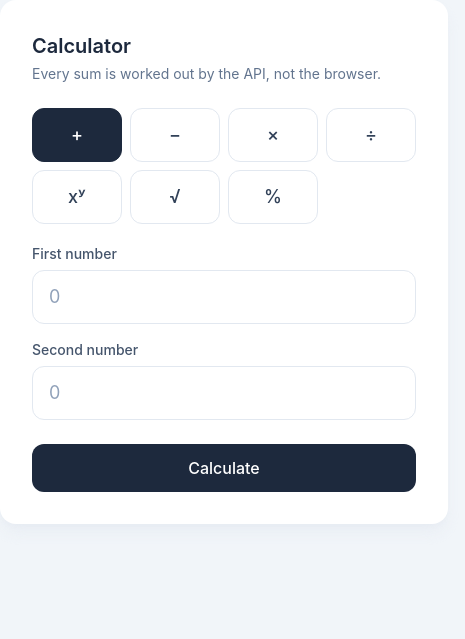
Test: displaying the result › shows the result
Type "2" into the field labelled "First number" at (224, 297), box [32,270,416,324]
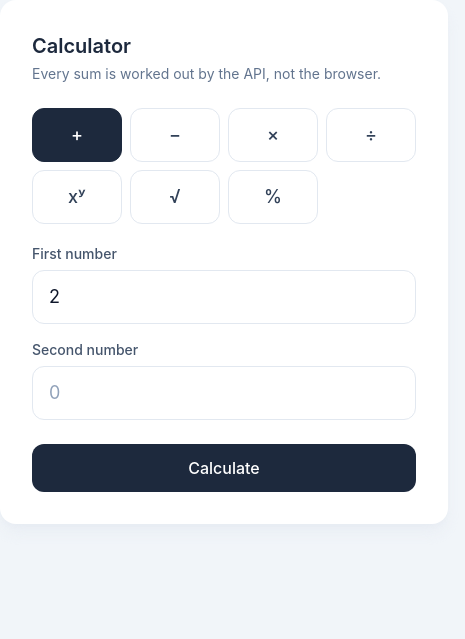
Type "3" into the field labelled "Second number" at (224, 393), box [32,366,416,420]
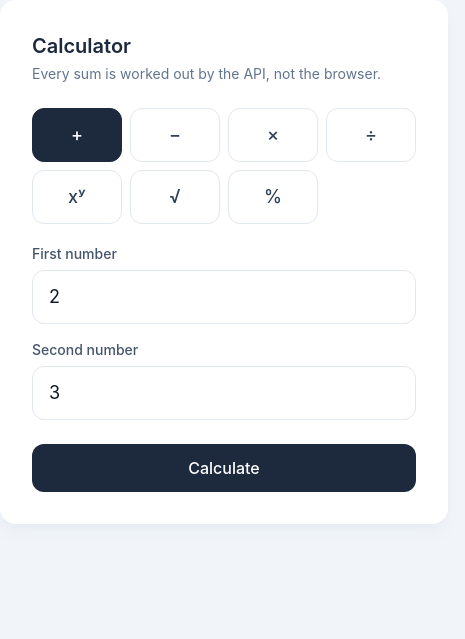
Click the button "Calculate" at (224, 468), box [32,444,416,492]
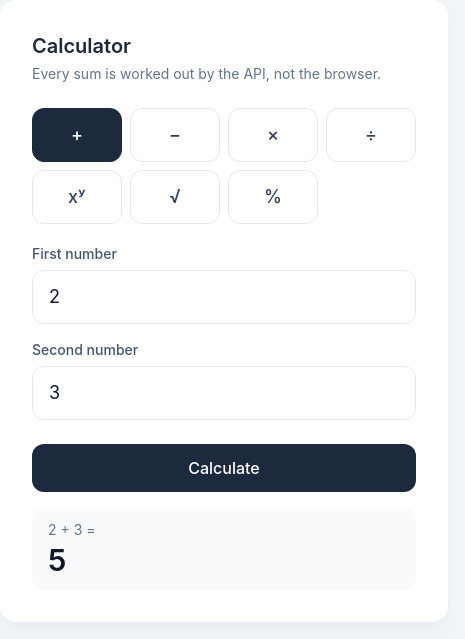
expect the message shows "5": met, box [48,542,66,578]
